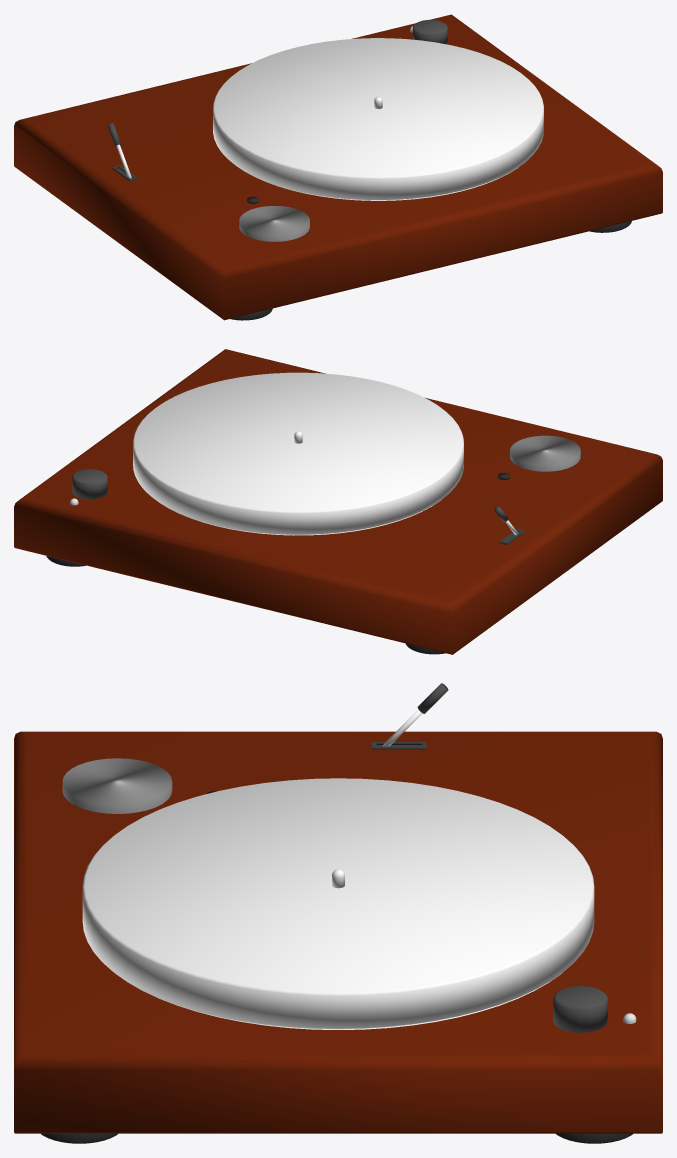
The model's file is deck.glb.
The picture shows the model from 3 angles, top to bottom: view 1: azimuth 30°, elevation 25°; view 2: azimuth 150°, elevation 25°; view 3: azimuth 270°, elevation 25°; orthographic projection. The views are drawn at different scales.
Parts seen in each view (by area): view 1: Deck, Platter, ArmDisc, Switch; view 2: Deck, Platter, ArmDisc, Switch; view 3: Deck, Platter, ArmDisc, Switch.
Part boxes in pixels (bbox=[...]): Deck: bbox=[14, 14, 662, 320]; Platter: bbox=[213, 38, 543, 200]; ArmDisc: bbox=[239, 206, 309, 241]; Switch: bbox=[412, 19, 447, 44]; Deck: bbox=[14, 349, 662, 654]; Platter: bbox=[133, 372, 463, 535]; ArmDisc: bbox=[510, 435, 580, 471]; Switch: bbox=[72, 469, 107, 499]; Deck: bbox=[14, 731, 662, 1133]; Platter: bbox=[82, 778, 594, 1029]; ArmDisc: bbox=[62, 758, 172, 813]; Switch: bbox=[553, 986, 607, 1032].
Size of the model in its own units: 4.29 by 0.9616 by 3.55.
